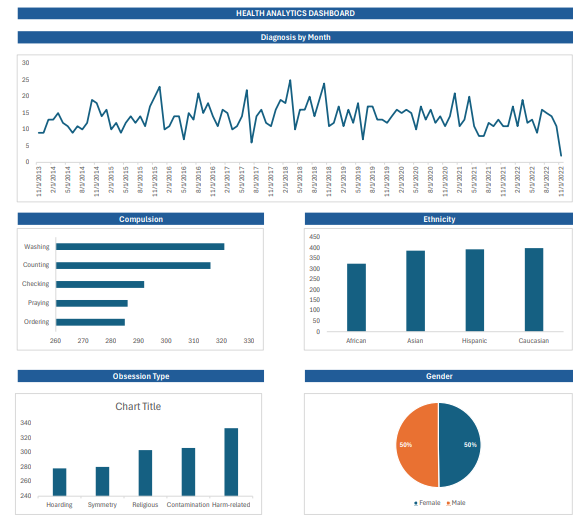

Layout of this report page (visuals, bound fields, positions):
{"tool":"powerbi","page":{"name":"Page 1","canvas":[1280,720],"ordinal":0},"visuals":[{"type":"textbox","box":[0,0,1270.9,82.7],"z":0},{"type":"lineChart","fields":{"Y":["Sum(diagnosis.patient_count)"],"Category":["diagnosis.month"]},"box":[9,63.2,1270.9,136.9],"z":1000},{"type":"donutChart","fields":{"Category":["gender.Gender"],"Y":["Sum(gender.patient_count)"]},"box":[9,213.6,461.7,221.1],"z":2000},{"type":"clusteredBarChart","fields":{"Category":["ethnicity.Ethnicity"],"Y":["Sum(ethnicity.patient_count)"],"Series":["ethnicity.patient_count"]},"box":[543,213.6,737,221.1],"z":3000},{"type":"columnChart","fields":{"Category":["comp_type.Compulsion  Type"],"Y":["Sum(comp_type.patient count)"]},"box":[9,449.7,606.1,270.7],"z":4000},{"type":"lineChart","title":"Obsession_score against Patient_count","fields":{"Category":["obs_type.Obsession Type"],"Y":["Sum(obs_type.patient count)","Sum(obs_type.obs_score)"]},"box":[626,450,654,270],"z":5000}]}

Visuals, with their boxes on the page's 1280x720 design canvas (x1, y1, x2, y2). These are canvas units, not pixel positions in the 583x528 screenshot, which may show the page scaled, cropped or inside an application window:
textbox: [0,0,1271,83]
lineChart - Sum(diagnosis.patient_count) x diagnosis.month: [9,63,1280,200]
donutChart - gender.Gender x Sum(gender.patient_count): [9,214,471,435]
clusteredBarChart - ethnicity.Ethnicity x Sum(ethnicity.patient_count): [543,214,1280,435]
columnChart - comp_type.Compulsion  Type x Sum(comp_type.patient count): [9,450,615,720]
"Obsession_score against Patient_count" lineChart: [626,450,1280,720]
